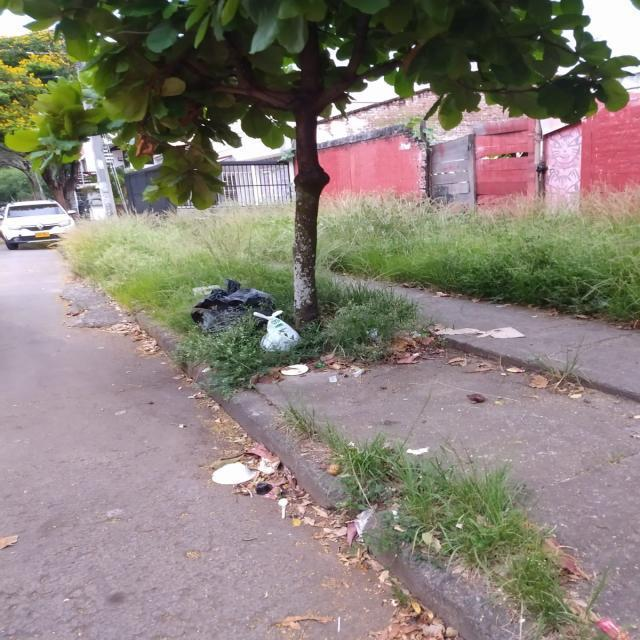Trashbag: (191, 272, 281, 338)
